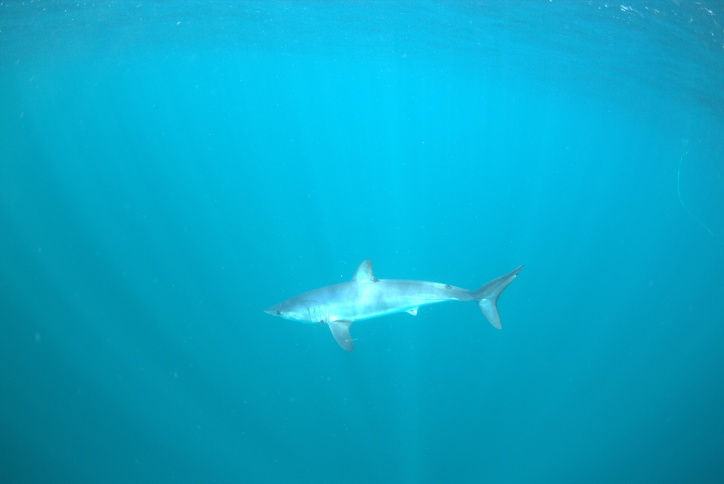Mako: (248, 254, 534, 358)
